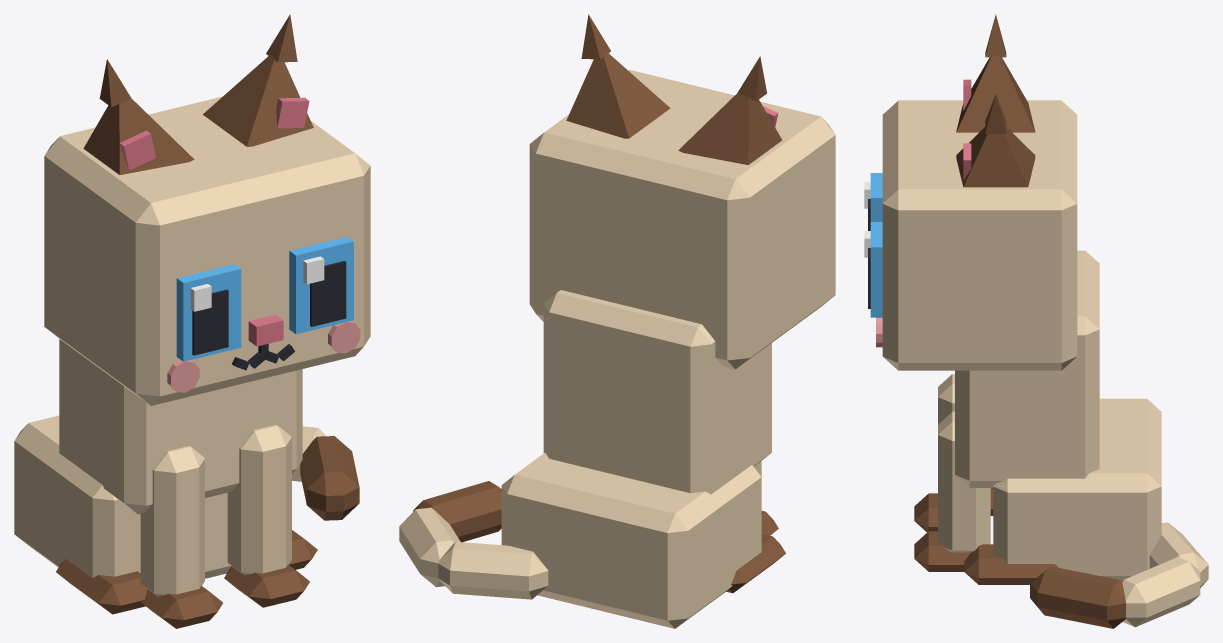
File: CleanACat_Cat_Toffee_Sit.fbx
3 renders of one model, left to right at view 1: azimuth 30°, elevation 25°; view 2: azimuth 150°, elevation 25°; view 3: azimuth 270°, elevation 25°, orthographic. The views are drawn at different scales.
Visible parts, largest first — view 1: CleanACat_Cat_Toffee_Sit_Head, CleanACat_Cat_Toffee_Sit_Body, CleanACat_Cat_Toffee_Sit_LegF1, CleanACat_Cat_Toffee_Sit_LegF2, CleanACat_Cat_Toffee_Sit_EarL, CleanACat_Cat_Toffee_Sit_EarR, CleanACat_Cat_Toffee_Sit_Eye2, CleanACat_Cat_Toffee_Sit_Eye1, CleanACat_Cat_Toffee_Sit_Tail; view 2: CleanACat_Cat_Toffee_Sit_Body, CleanACat_Cat_Toffee_Sit_Head, CleanACat_Cat_Toffee_Sit_Tail, CleanACat_Cat_Toffee_Sit_EarL, CleanACat_Cat_Toffee_Sit_EarR; view 3: CleanACat_Cat_Toffee_Sit_Head, CleanACat_Cat_Toffee_Sit_Body, CleanACat_Cat_Toffee_Sit_Tail, CleanACat_Cat_Toffee_Sit_LegF1, CleanACat_Cat_Toffee_Sit_EarL, CleanACat_Cat_Toffee_Sit_EarR, CleanACat_Cat_Toffee_Sit_Eye1, CleanACat_Cat_Toffee_Sit_LegF2, CleanACat_Cat_Toffee_Sit_Eye2.
Part boxes in pixels (x1,y1,x2,y2): CleanACat_Cat_Toffee_Sit_Head: [44, 96, 370, 405]; CleanACat_Cat_Toffee_Sit_Body: [14, 339, 317, 614]; CleanACat_Cat_Toffee_Sit_LegF1: [224, 424, 309, 607]; CleanACat_Cat_Toffee_Sit_LegF2: [140, 446, 222, 628]; CleanACat_Cat_Toffee_Sit_EarL: [203, 14, 313, 146]; CleanACat_Cat_Toffee_Sit_EarR: [83, 59, 194, 174]; CleanACat_Cat_Toffee_Sit_Eye2: [176, 264, 241, 361]; CleanACat_Cat_Toffee_Sit_Eye1: [289, 236, 353, 334]; CleanACat_Cat_Toffee_Sit_Tail: [292, 426, 359, 520]; CleanACat_Cat_Toffee_Sit_Body: [501, 290, 785, 628]; CleanACat_Cat_Toffee_Sit_Head: [529, 70, 835, 369]; CleanACat_Cat_Toffee_Sit_Tail: [399, 481, 548, 599]; CleanACat_Cat_Toffee_Sit_EarL: [566, 14, 670, 138]; CleanACat_Cat_Toffee_Sit_EarR: [678, 56, 782, 165]; CleanACat_Cat_Toffee_Sit_Head: [876, 100, 1077, 370]; CleanACat_Cat_Toffee_Sit_Body: [955, 250, 1161, 584]; CleanACat_Cat_Toffee_Sit_Tail: [1030, 522, 1208, 628]; CleanACat_Cat_Toffee_Sit_LegF1: [914, 411, 990, 571]; CleanACat_Cat_Toffee_Sit_EarL: [956, 94, 1035, 187]; CleanACat_Cat_Toffee_Sit_EarR: [956, 14, 1035, 132]; CleanACat_Cat_Toffee_Sit_Eye1: [864, 222, 882, 317]; CleanACat_Cat_Toffee_Sit_LegF2: [914, 374, 954, 532]; CleanACat_Cat_Toffee_Sit_Eye2: [864, 173, 882, 230].
Size of the model in its own units: 1.24 by 1.96 by 1.24.
1 material, 1 textured.
